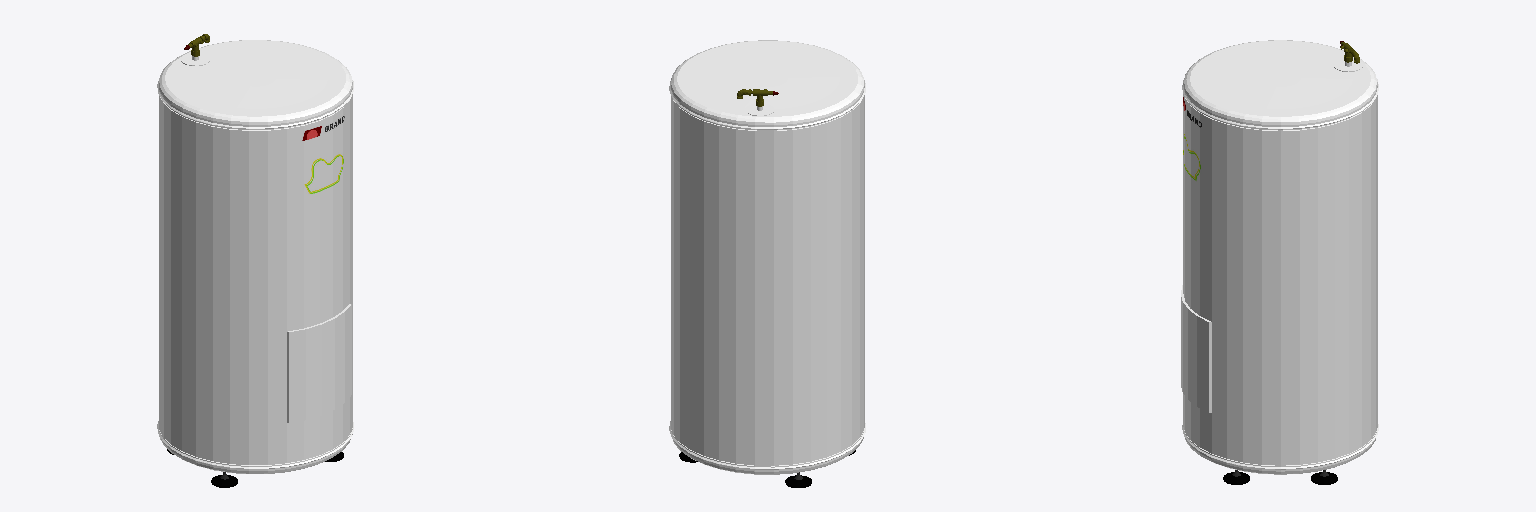
The picture shows the model from 3 angles: view 1: azimuth 30°, elevation 25°; view 2: azimuth 150°, elevation 25°; view 3: azimuth 270°, elevation 25°; orthographic projection.
Parts seen in each view (by area): view 1: electric-heater_Cylinder, electric-heater.001_Cylinder.003; view 2: electric-heater_Cylinder; view 3: electric-heater_Cylinder, electric-heater.001_Cylinder.003, Cylinder.001_Cylinder.004.
Part boxes in pixels (x1,y1,x2,y2): electric-heater_Cylinder: (157, 40, 353, 473); electric-heater.001_Cylinder.003: (287, 304, 351, 422); electric-heater_Cylinder: (669, 40, 865, 474); electric-heater_Cylinder: (1182, 40, 1378, 474); electric-heater.001_Cylinder.003: (1181, 285, 1211, 412); Cylinder.001_Cylinder.004: (1223, 470, 1337, 484).
Size of the model in its own units: 45.63 by 101 by 45.91.
9 materials, 1 textured.